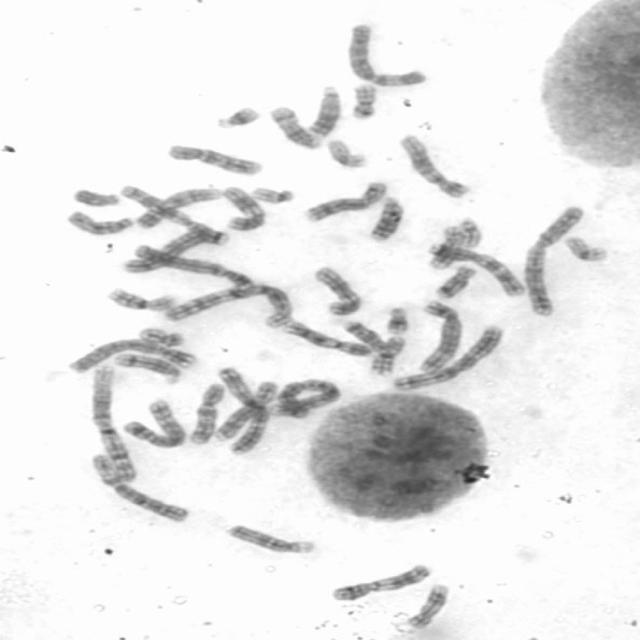A1: (160, 282, 295, 330), (89, 365, 140, 483)
A2: (522, 204, 590, 317), (269, 376, 342, 420)
A3: (390, 322, 506, 392), (216, 365, 272, 456)
B4: (131, 242, 255, 292), (67, 336, 199, 376)
B5: (414, 299, 464, 374), (122, 398, 190, 449)
C10: (163, 143, 264, 177), (186, 381, 228, 445)
C11: (329, 562, 434, 602), (220, 184, 268, 231)
C12: (397, 133, 472, 199), (314, 265, 366, 316)
C6: (86, 452, 192, 524), (345, 22, 429, 88)
C7: (118, 183, 232, 247), (426, 241, 526, 297)
C8: (210, 379, 280, 444), (302, 180, 388, 224)
C9: (132, 186, 223, 230), (280, 316, 373, 359)
D13: (304, 84, 346, 138), (366, 195, 406, 242)
D14: (268, 104, 324, 150), (113, 352, 185, 386)
D15: (224, 523, 316, 556), (64, 209, 136, 238)
E16: (102, 286, 180, 314), (368, 334, 408, 377)
E17: (422, 224, 466, 270), (408, 582, 450, 628)
E18: (432, 264, 476, 300), (342, 321, 388, 354)
F19: (560, 235, 612, 263), (327, 138, 368, 169)
F20: (137, 325, 186, 348), (349, 84, 376, 120)
G21: (214, 104, 263, 130), (382, 304, 414, 335)
G22: (246, 185, 296, 205), (457, 216, 486, 248)
X: (119, 227, 210, 275)
Y: (73, 187, 122, 208)
